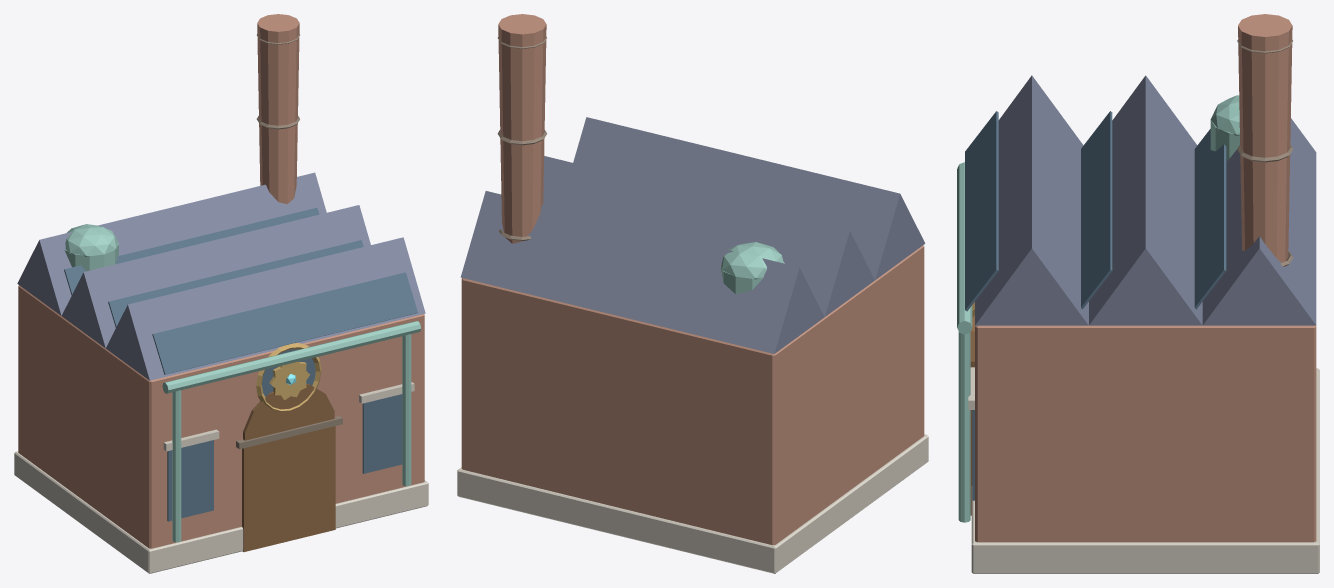
File: Cite_Atelier.fbx
The picture shows the model from 3 angles, left to right: view 1: azimuth 30°, elevation 25°; view 2: azimuth 150°, elevation 25°; view 3: azimuth 270°, elevation 25°; orthographic projection. The views are drawn at different scales.
Parts seen in each view (by area): view 1: Cite_Atelier_Brique, Cite_Atelier_Ardoise, Cite_Atelier_Vitre, Cite_Atelier_Bois, Cite_Atelier_Pierre, Cite_Atelier_Cuivre, Cite_Atelier_Laiton, Cite_Atelier_Fer; view 2: Cite_Atelier_Brique, Cite_Atelier_Ardoise, Cite_Atelier_Pierre, Cite_Atelier_Cuivre; view 3: Cite_Atelier_Brique, Cite_Atelier_Ardoise, Cite_Atelier_Vitre, Cite_Atelier_Pierre, Cite_Atelier_Cuivre, Cite_Atelier_Fer, Cite_Atelier_Bois.
Part boxes in pixels (x1,y1,x2,y2): Cite_Atelier_Brique: (18, 14, 424, 548); Cite_Atelier_Ardoise: (17, 172, 425, 380); Cite_Atelier_Vitre: (64, 207, 417, 521); Cite_Atelier_Bois: (242, 384, 335, 551); Cite_Atelier_Pierre: (14, 382, 428, 573); Cite_Atelier_Cuivre: (64, 224, 420, 542); Cite_Atelier_Laiton: (256, 343, 321, 411); Cite_Atelier_Fer: (236, 34, 342, 449); Cite_Atelier_Brique: (461, 14, 924, 545); Cite_Atelier_Ardoise: (460, 117, 925, 353); Cite_Atelier_Pierre: (457, 434, 928, 573); Cite_Atelier_Cuivre: (720, 242, 784, 294); Cite_Atelier_Brique: (975, 14, 1316, 542); Cite_Atelier_Ardoise: (975, 75, 1316, 325); Cite_Atelier_Vitre: (965, 111, 1226, 500); Cite_Atelier_Pierre: (968, 367, 1319, 573); Cite_Atelier_Cuivre: (957, 95, 1239, 522); Cite_Atelier_Fer: (1237, 39, 1293, 266); Cite_Atelier_Bois: (970, 315, 974, 515).
Bounding box in the file's own units: 24.4 × 34 × 21.25.
